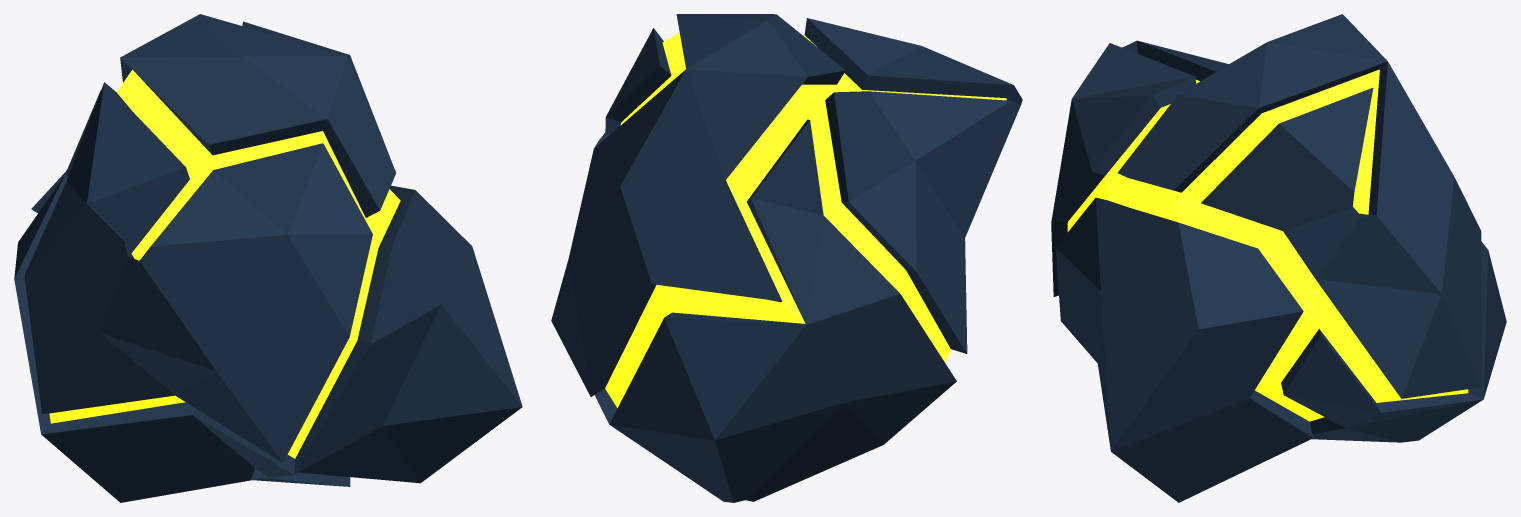
Rendered from LavaRock.fbx.
3 views of the same model, side by side, from view 1: azimuth 30°, elevation 25°; view 2: azimuth 150°, elevation 25°; view 3: azimuth 270°, elevation 25° (orthographic). The views are drawn at different scales.
Parts seen in each view (by area): view 1: Icosphere.001; view 2: Icosphere.001; view 3: Icosphere.001.
Boxes of the visible parts, x1,y1,x2,y2 form: Icosphere.001: (14,14,522,502); Icosphere.001: (551,14,1022,502); Icosphere.001: (1051,14,1506,502).
Size of the model in its own units: 98.76 by 104 by 103.
